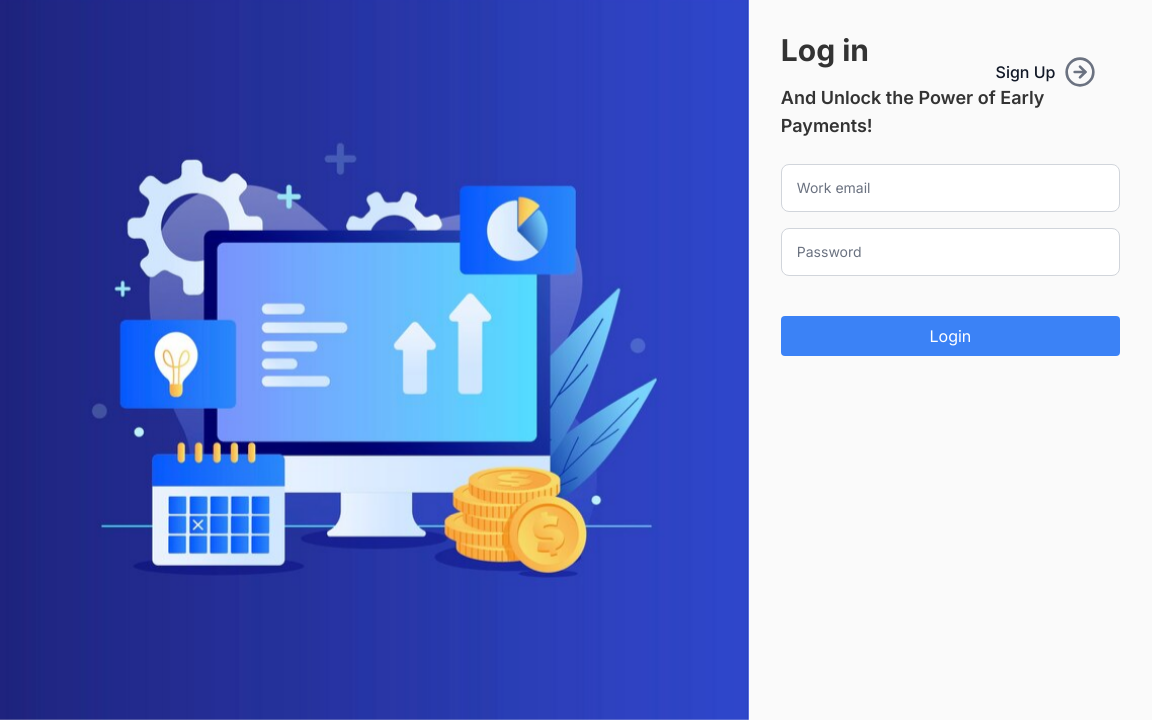
Test case: LoginForm › displays validation error for short password
Type "qwer" into the password field with placeholder "Password".
click(950, 252); type("qwer")  # box [781,228,1120,276]
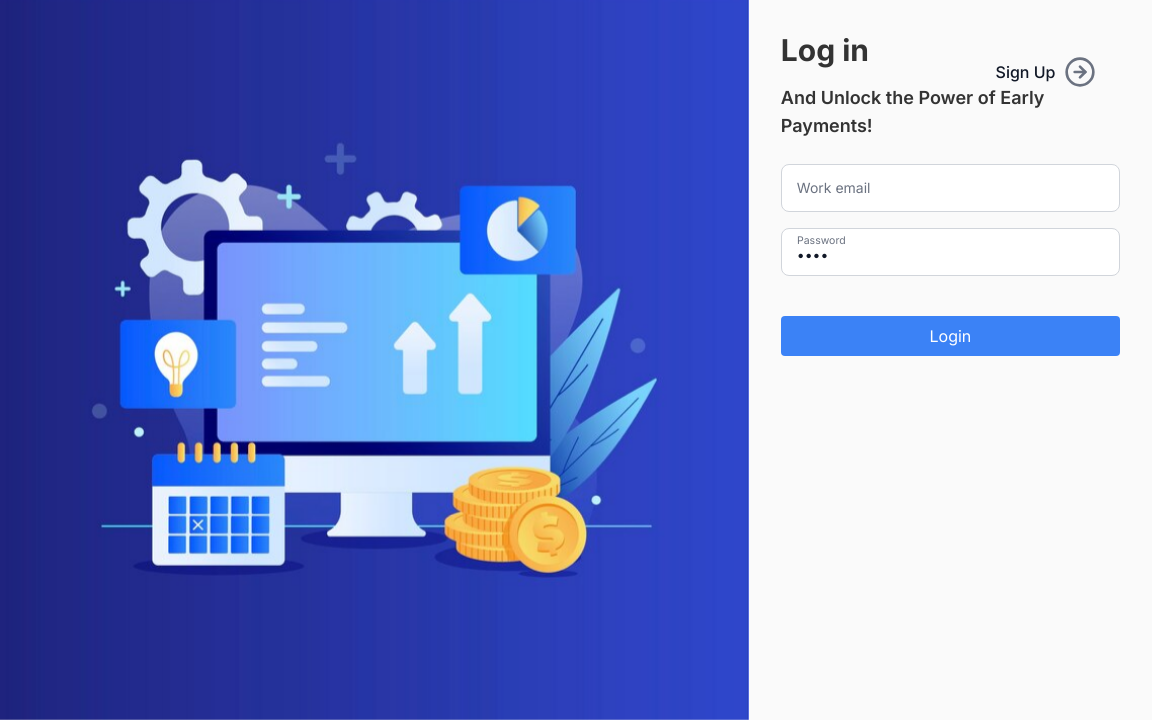
Click the button "Login".
click(950, 336)  # box [781,316,1120,356]
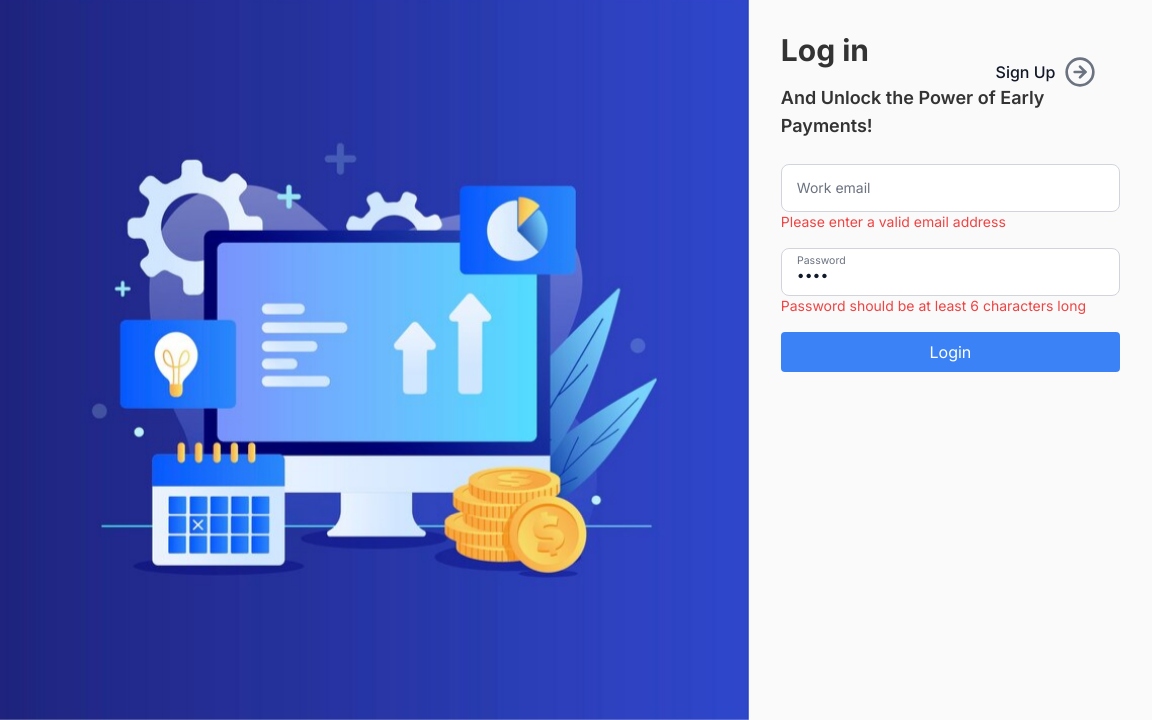
Expected: the text "Password should be at least 6 characters long" is shown, [781,296,1120,316]
